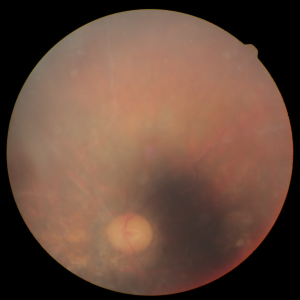cataract: (46, 147, 241, 254)
